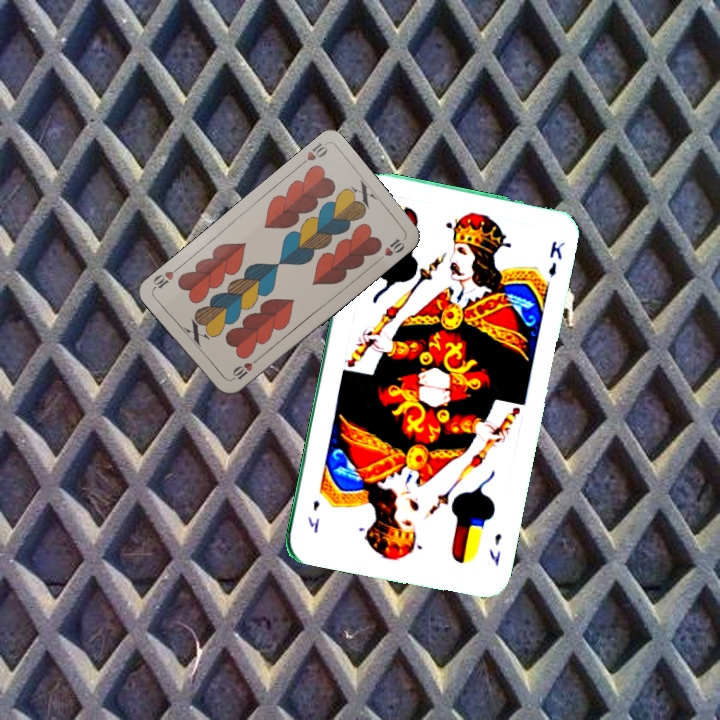EK: (485, 529, 504, 569)
H10: (294, 139, 330, 170), (227, 354, 262, 383)
